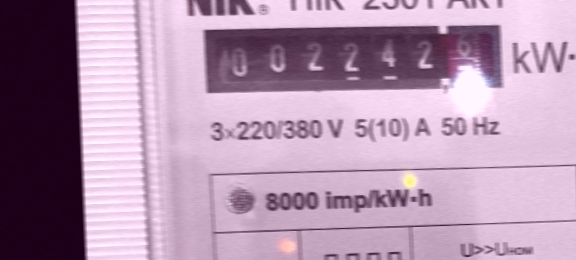0: (228, 47, 249, 81), (266, 43, 286, 77)
2: (340, 42, 360, 76), (304, 42, 324, 75), (415, 41, 433, 73)
4: (379, 38, 396, 72)
6: (454, 33, 471, 61)
screen: (192, 10, 513, 112)
